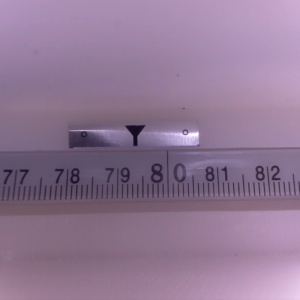0: (173, 162, 187, 182)
2: (270, 165, 280, 181)
7: (18, 169, 29, 185), (1, 169, 12, 185), (53, 169, 64, 184), (103, 168, 113, 183)
8: (150, 163, 163, 183), (69, 168, 80, 184), (255, 165, 265, 181), (205, 166, 215, 182)
9: (119, 167, 129, 183)
finger: (123, 125, 146, 147)
